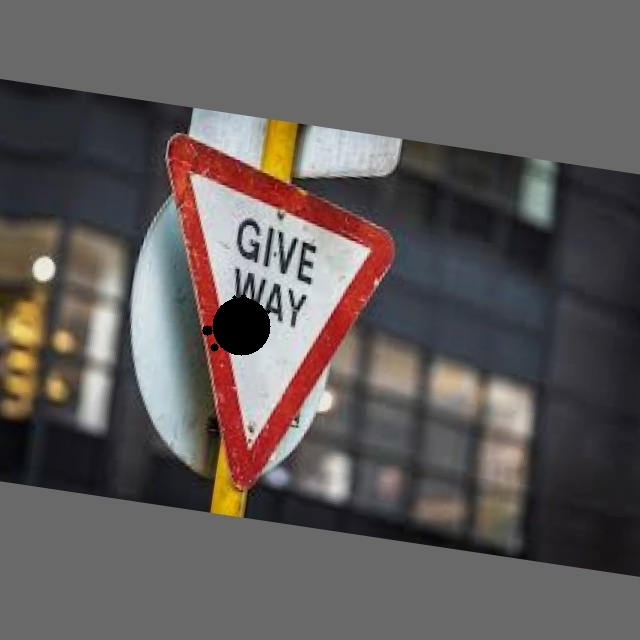Give_Way: (127, 136, 405, 508)
